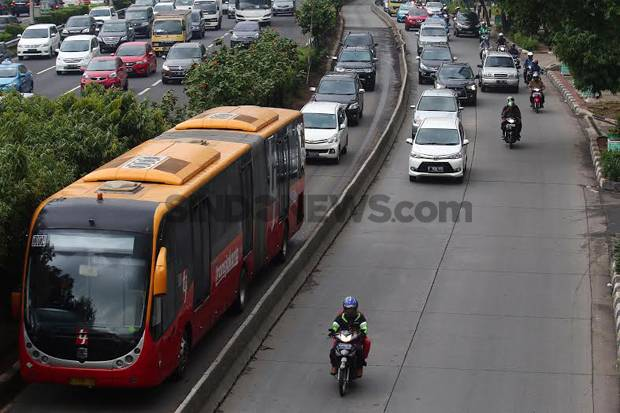car: (22, 104, 302, 381), (409, 117, 469, 182), (308, 72, 365, 128), (301, 101, 350, 164), (412, 88, 463, 145), (430, 62, 478, 108), (331, 47, 375, 92), (78, 56, 126, 95), (153, 9, 191, 58), (162, 43, 207, 84), (478, 51, 521, 93), (56, 35, 100, 76), (114, 41, 158, 79), (416, 45, 456, 85), (18, 23, 59, 61), (99, 19, 136, 53), (1, 58, 33, 95), (88, 5, 122, 37), (61, 16, 96, 47), (415, 24, 448, 56), (339, 33, 375, 61), (124, 7, 153, 41), (230, 22, 263, 49), (192, 3, 222, 32), (453, 10, 481, 39), (183, 8, 204, 37), (405, 7, 428, 30)
motorbike: (319, 294, 380, 395), (500, 98, 522, 151), (528, 74, 547, 116), (530, 57, 543, 93), (508, 43, 520, 75), (523, 51, 533, 82), (480, 38, 491, 66), (495, 31, 506, 58), (479, 22, 489, 48), (441, 6, 449, 28)
